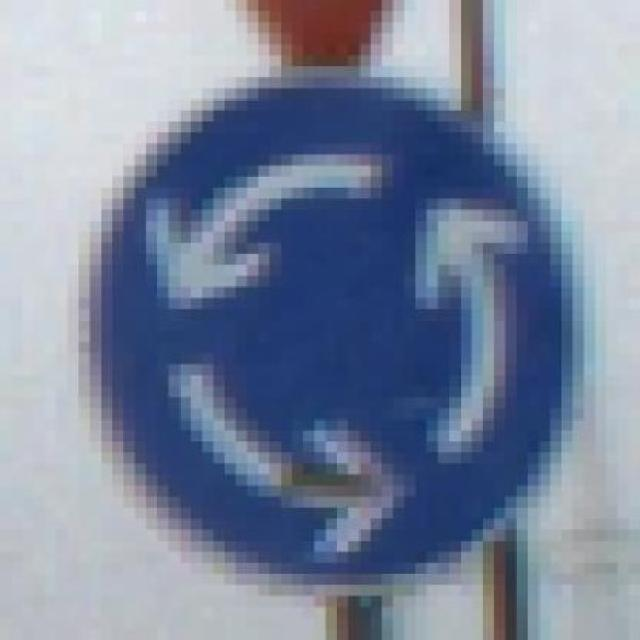Round-About: (45, 55, 618, 596)
